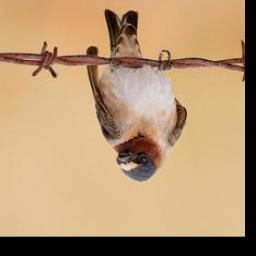Swallow: (85, 9, 187, 184)
